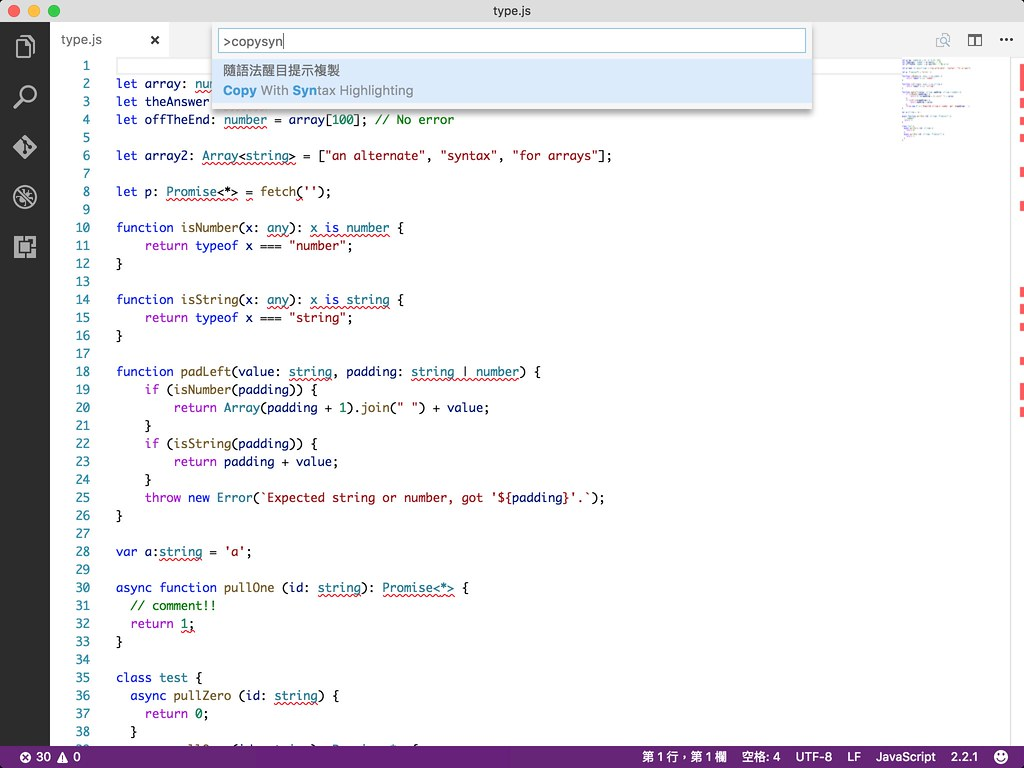button: (212, 58, 810, 102), (902, 57, 1011, 155), (50, 22, 168, 56), (10, 82, 38, 112), (12, 32, 38, 61), (11, 132, 37, 160), (11, 182, 37, 210), (11, 232, 37, 260), (932, 30, 953, 50), (964, 30, 985, 50), (996, 30, 1017, 50), (147, 32, 162, 47), (7, 4, 20, 17), (26, 4, 39, 17), (47, 4, 60, 17)
common: (63, 58, 93, 746), (640, 748, 728, 766), (874, 750, 936, 764), (739, 749, 781, 766), (794, 750, 832, 764), (949, 750, 979, 764), (35, 749, 51, 764), (846, 750, 862, 763), (72, 751, 81, 763)
container: (49, 58, 1023, 746), (211, 23, 813, 113), (1, 22, 49, 745), (50, 24, 1024, 58), (1, 746, 1024, 768), (1, 1, 1024, 22), (19, 749, 52, 765), (55, 750, 83, 765)
header: (491, 3, 531, 18)
image: (993, 749, 1008, 764), (56, 751, 69, 763), (19, 751, 31, 763)
text-input: (115, 59, 605, 747), (217, 27, 806, 53)
